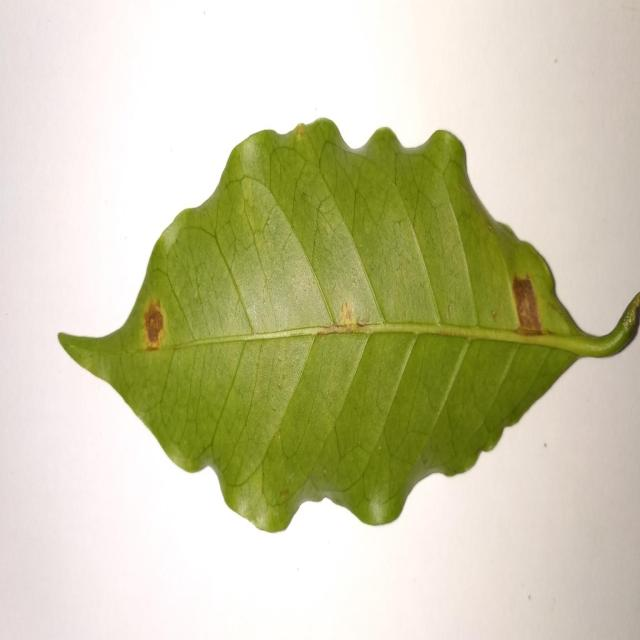Enfermedad-Mancha-de-hierro: (56, 118, 640, 536)
